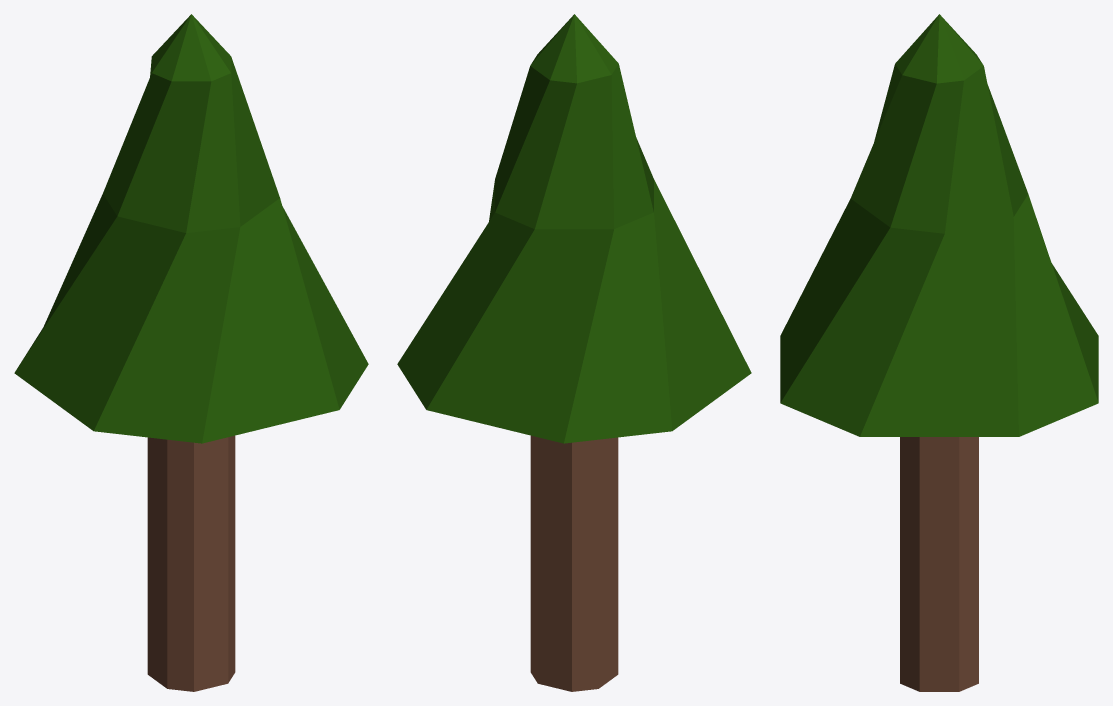
Rendered from Tree.fbx.
3 views of the same model, side by side, from view 1: azimuth 30°, elevation 25°; view 2: azimuth 150°, elevation 25°; view 3: azimuth 270°, elevation 25° (orthographic).
Parts seen in each view (by area): view 1: Cube; view 2: Cube; view 3: Cube.
Part boxes in pixels (left/top/right/bottom): Cube: left=14, top=14, right=368, bottom=691; Cube: left=397, top=14, right=751, bottom=691; Cube: left=780, top=14, right=1098, bottom=691.
Bounding box in the file's own units: 284 × 651 × 284.
